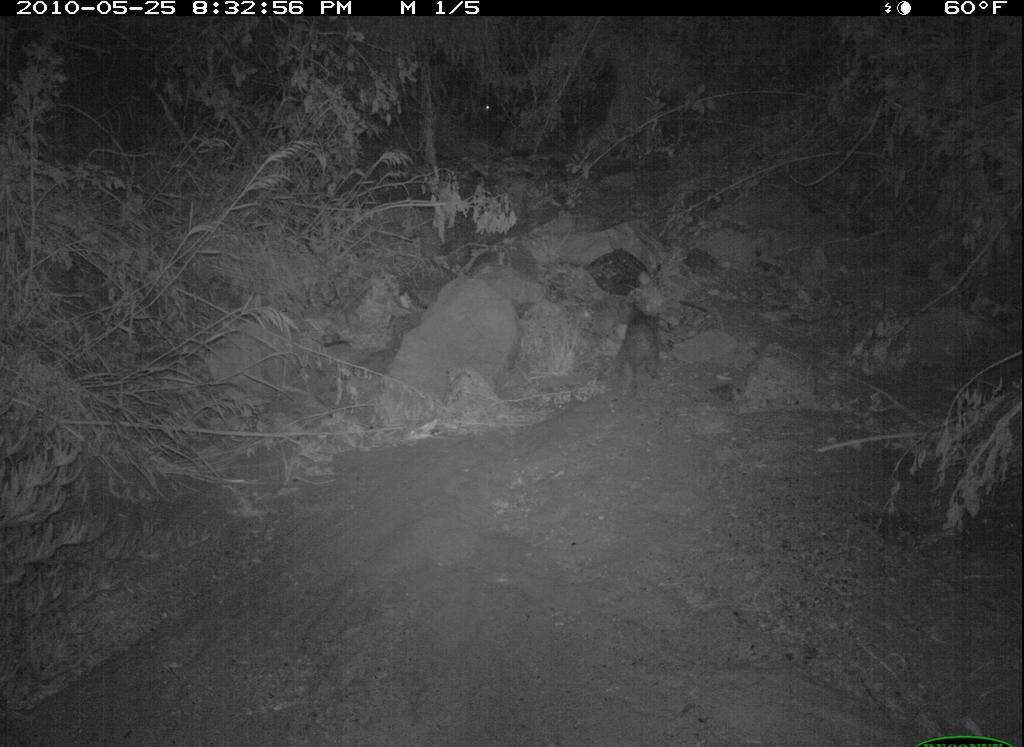cat: (601, 285, 674, 408)
